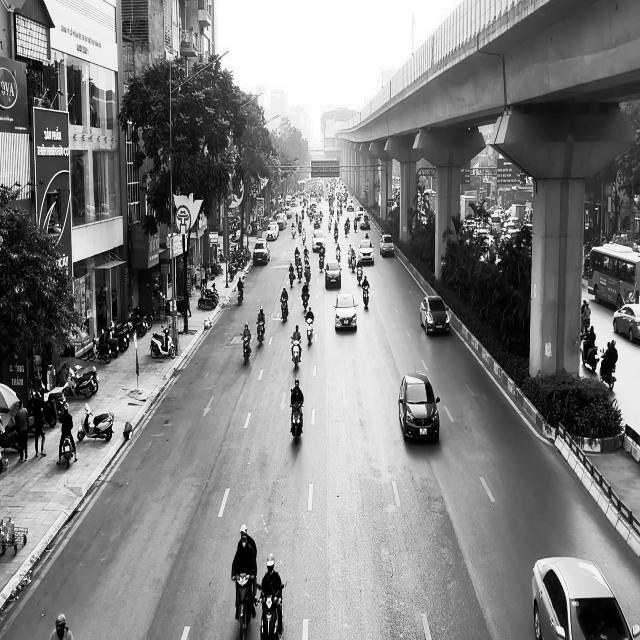bus: (587, 242, 640, 309)
car: (531, 556, 640, 640), (398, 369, 440, 442), (420, 295, 450, 336), (612, 302, 640, 344), (333, 292, 358, 331), (324, 260, 342, 288), (358, 238, 374, 263), (380, 233, 394, 256)
motorbike: (256, 580, 288, 640), (232, 572, 256, 639), (77, 402, 114, 441), (150, 324, 176, 358), (599, 348, 616, 389), (290, 402, 303, 442), (61, 434, 76, 468), (290, 335, 302, 370), (240, 332, 251, 364), (304, 316, 314, 346), (256, 321, 265, 346), (280, 298, 289, 322), (362, 286, 370, 308), (237, 285, 243, 305)
